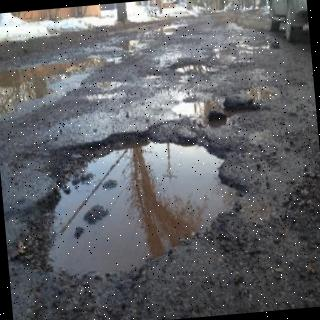pothole: (10, 132, 248, 276)
